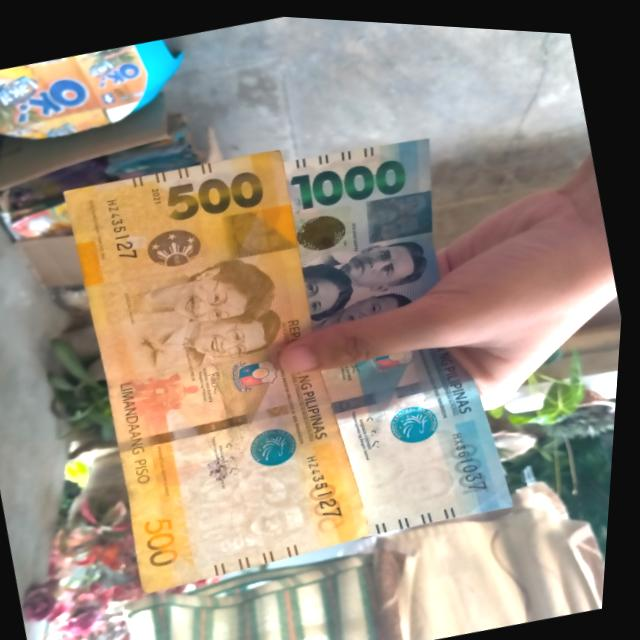concealed_value: (220, 196, 304, 260), (361, 181, 442, 242)
optically_variable_device: (138, 216, 217, 277), (293, 198, 364, 259)
security_thread: (123, 388, 338, 450), (337, 362, 480, 410)
see_through_mark: (170, 486, 215, 560)
serial_number: (100, 190, 152, 268), (307, 444, 356, 517), (450, 418, 497, 489)
value: (290, 142, 417, 213), (161, 157, 274, 228)
value_watermark: (223, 526, 268, 552), (366, 492, 410, 517)
watermark: (192, 454, 333, 558), (352, 416, 478, 512)
